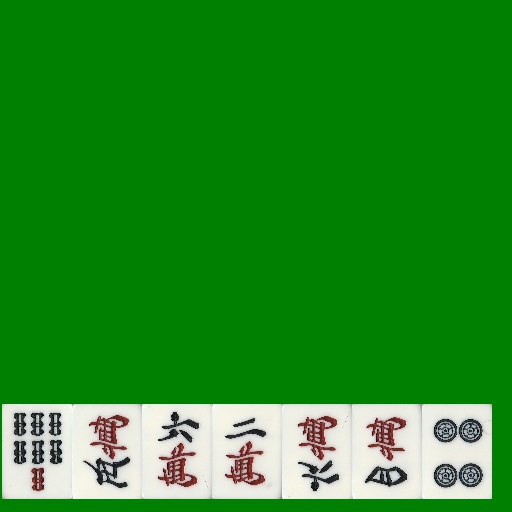2m: (212, 404, 282, 499)
4m: (352, 404, 422, 499)
4p: (422, 404, 492, 499)
5m: (72, 404, 142, 499)
6m: (142, 404, 212, 499), (282, 404, 352, 499)
7s: (2, 404, 72, 499)
